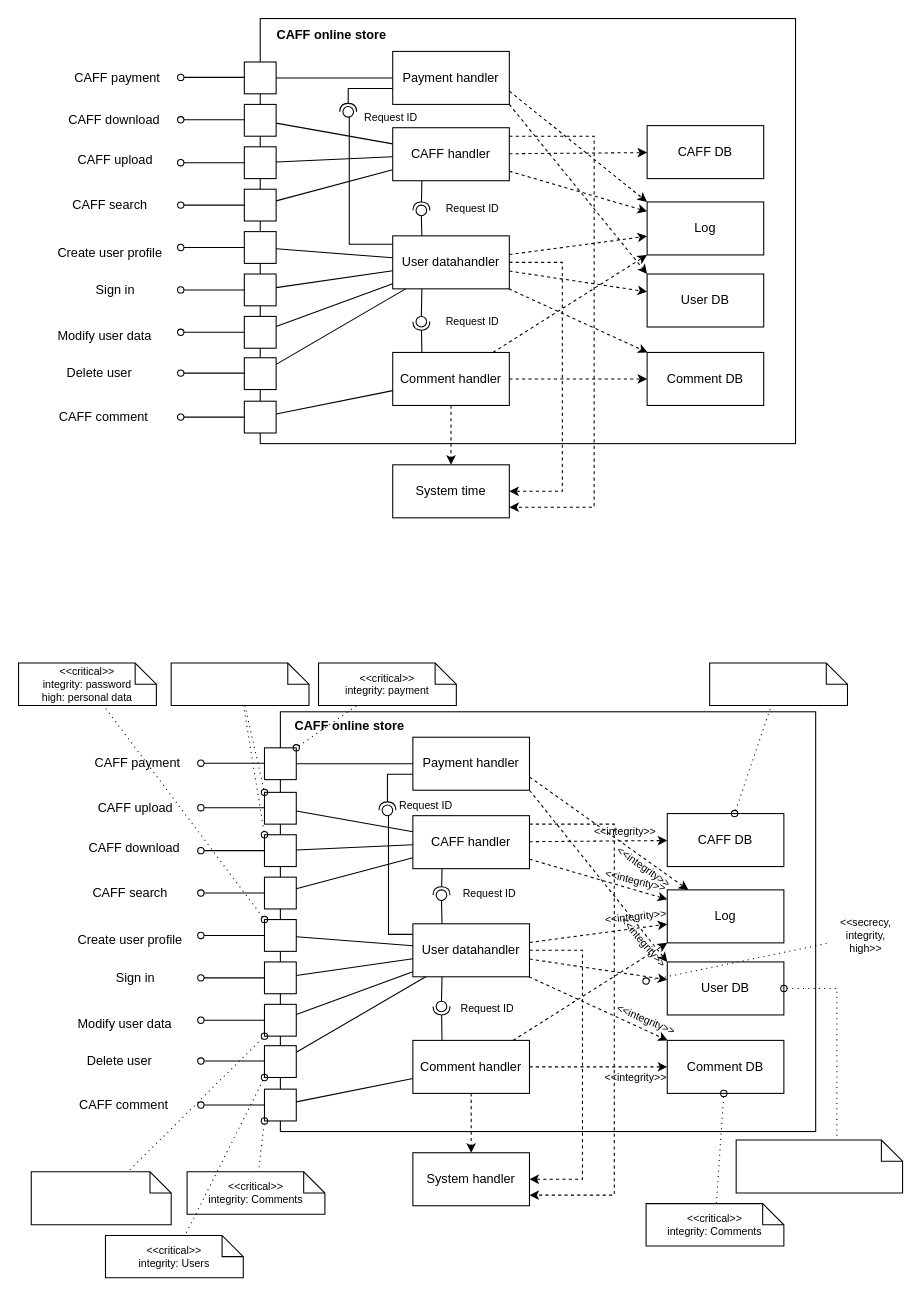
The diagram is 921 pixels wide and 1296 high, and some of its shapes have lost their labels. Here are the shapes that lost their labels. From the top down, the centre of each, then its label:
At [239,683]: "<<critical>> integrity: CAFF fájlok".
At [778,683]: "<<critical>> integrity: CAFF files".
At [819,1166]: "<<critical>> secrecy: password integrity: password, payments high: personal data".
At [100,1198]: "<<critical>> integrity: password, payments high: personal data".
